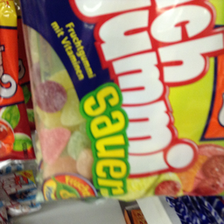candy: (22, 2, 223, 202)
